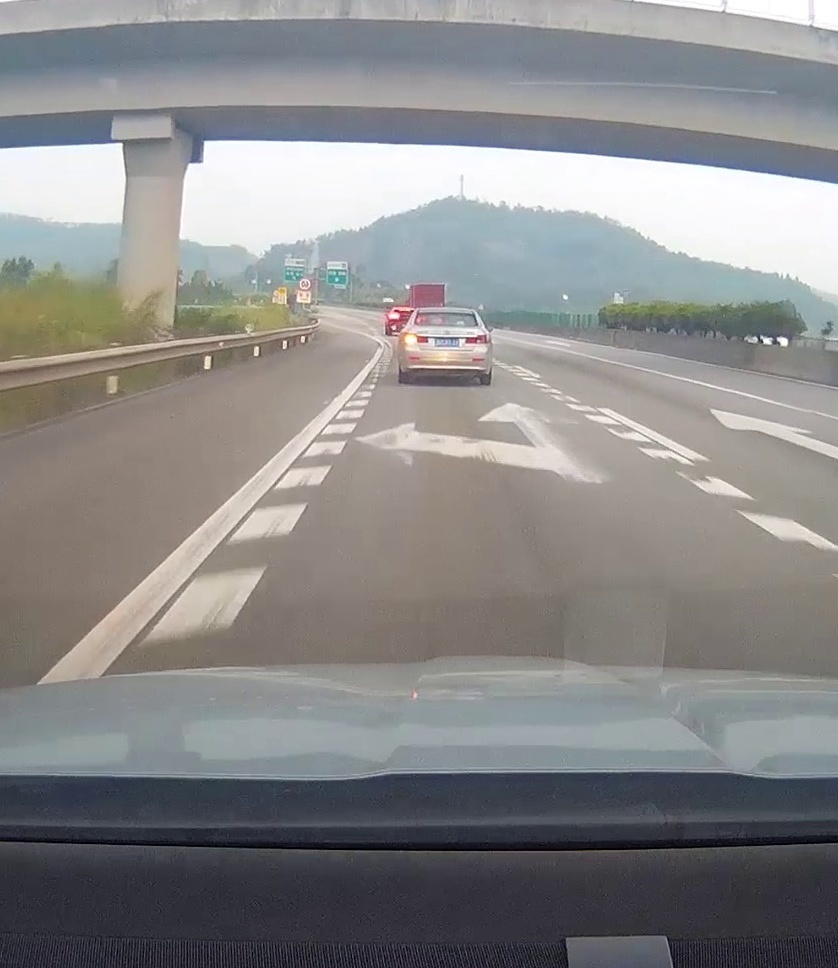L_light: (403, 332, 429, 344)
R_light: (465, 334, 487, 344)
T_light: (439, 324, 455, 326)
day-left: (397, 307, 493, 386)
